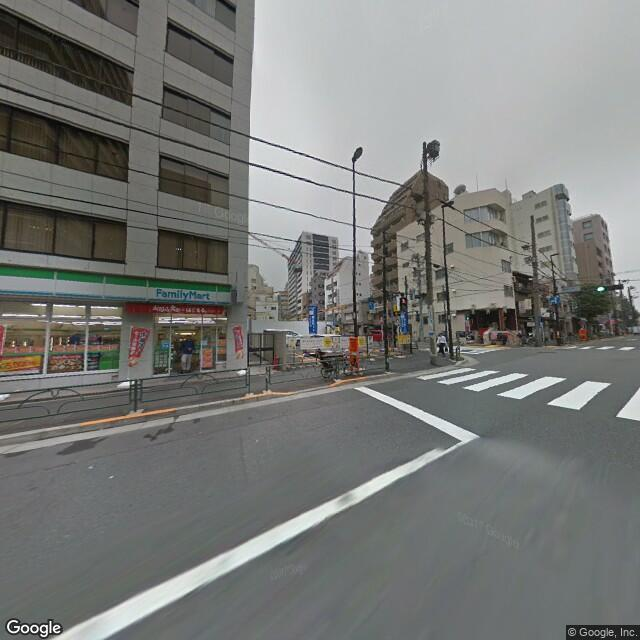family_mart: (1, 265, 223, 307), (151, 284, 213, 302)
